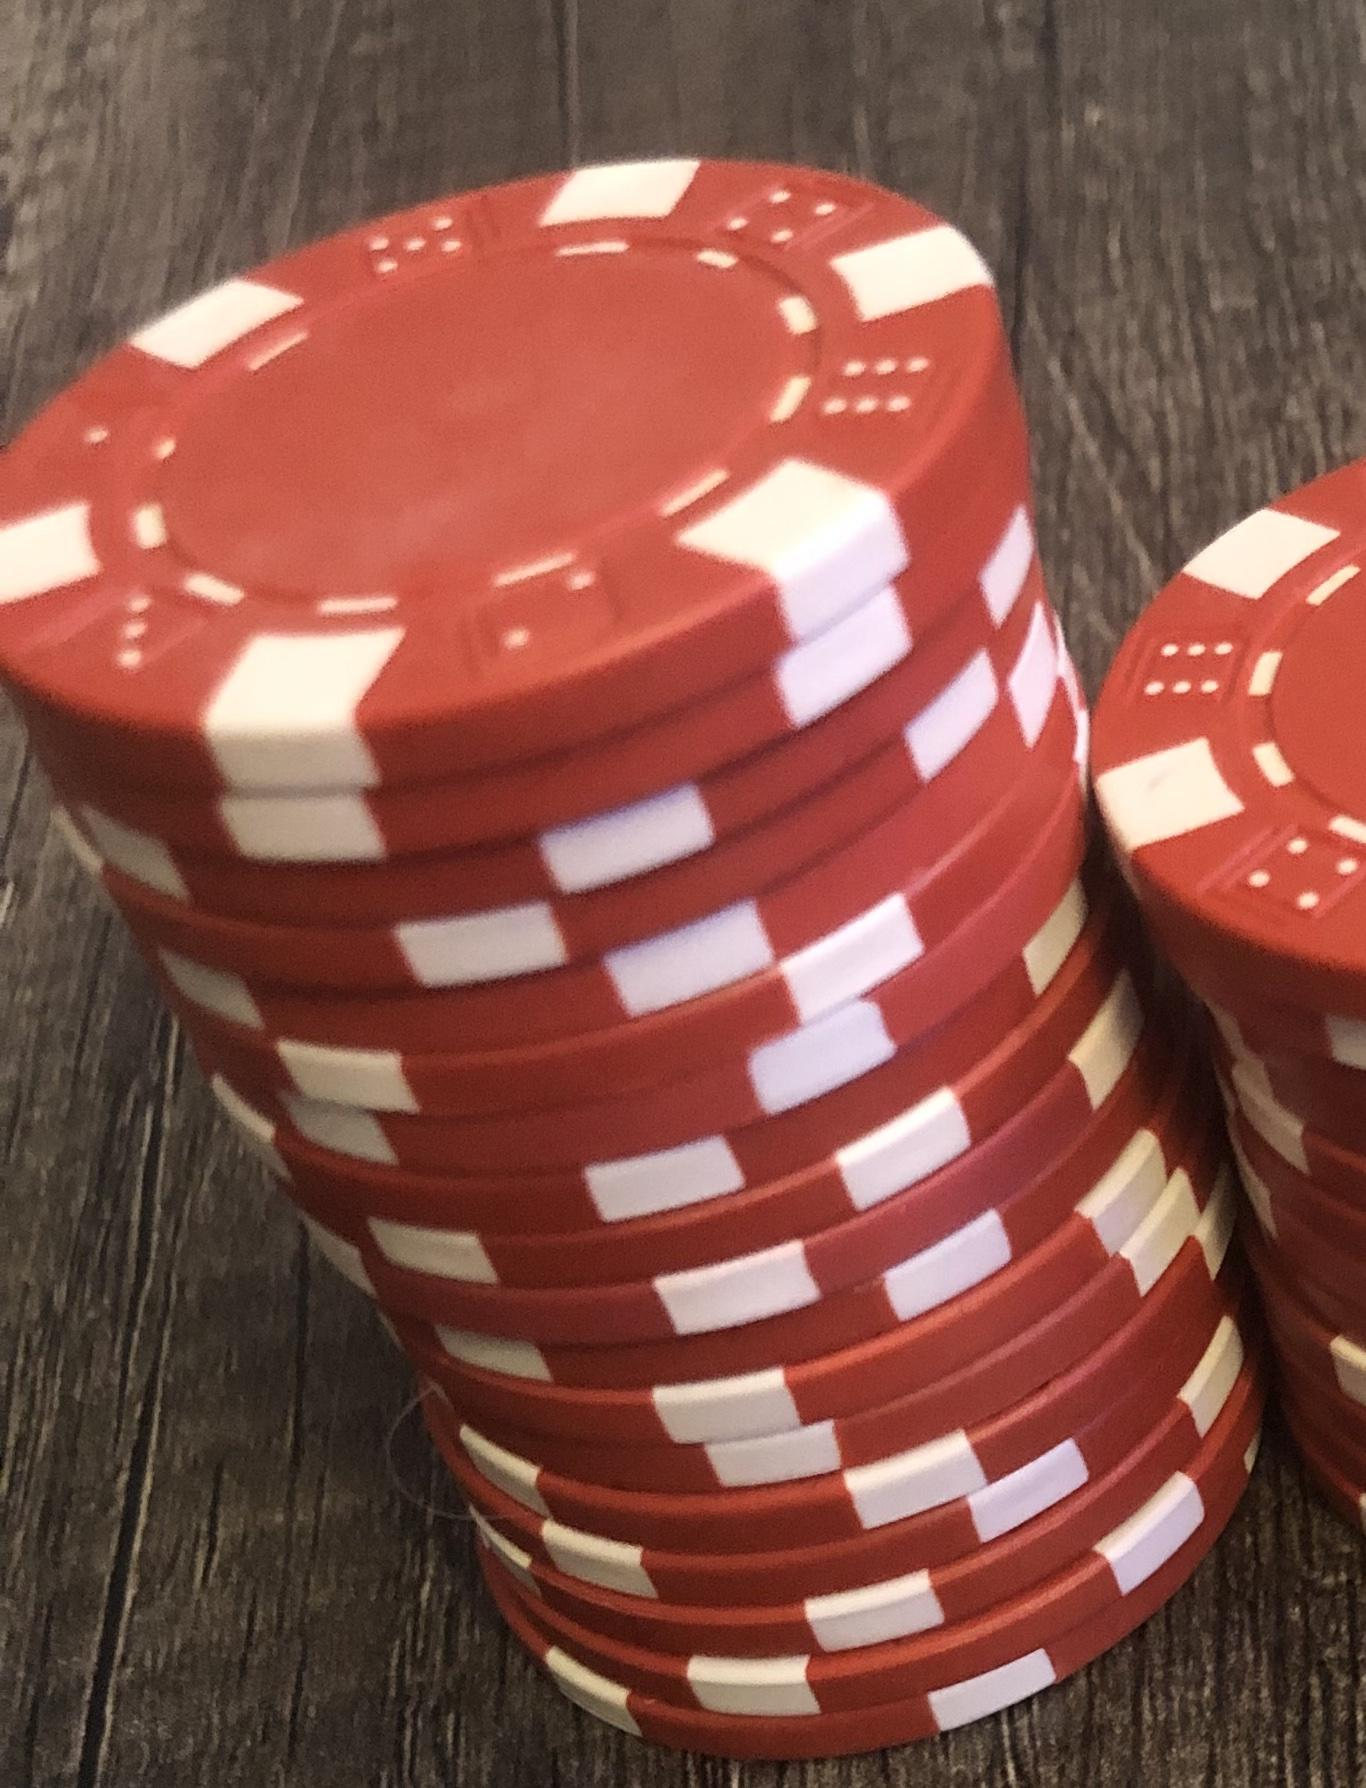Chip: (1, 1, 1366, 1788)
